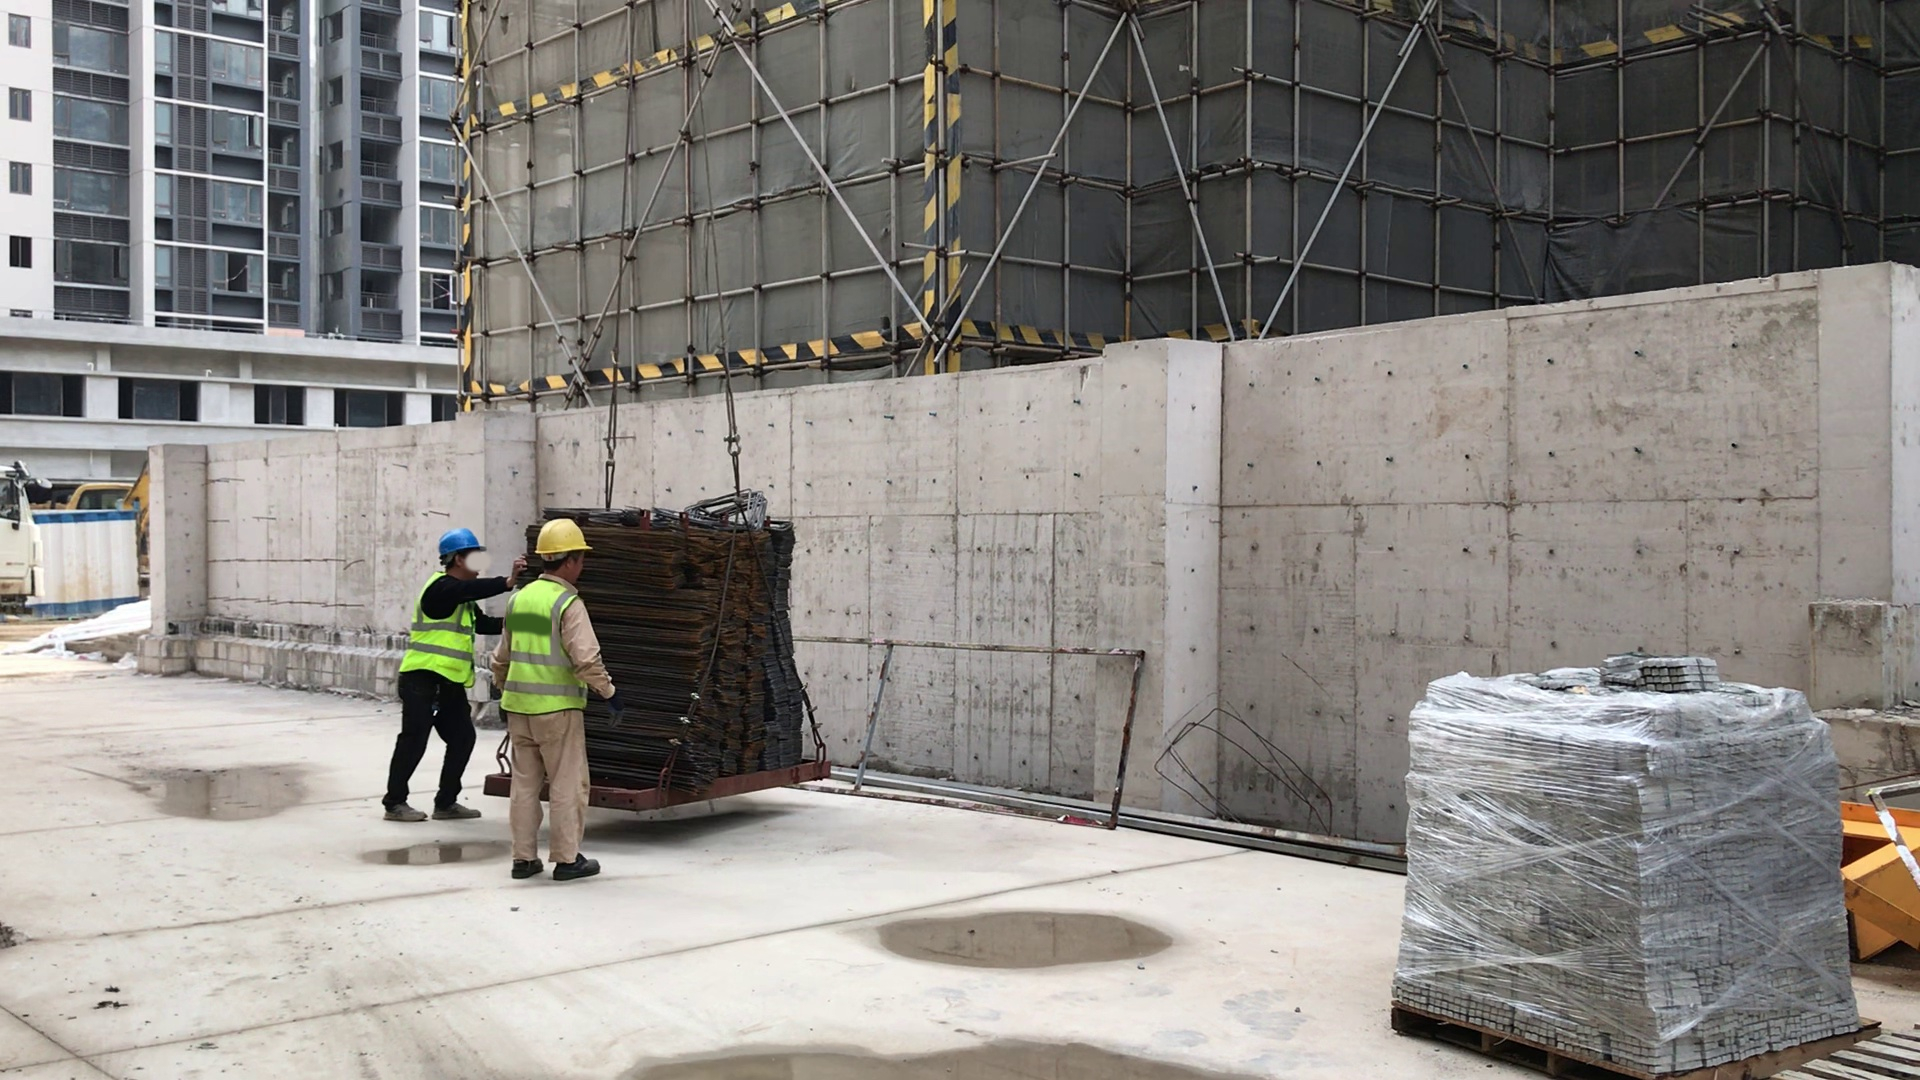helmet: (425, 509, 496, 560), (528, 515, 594, 557)
person: (505, 507, 613, 882), (383, 496, 487, 841)
vest: (498, 578, 584, 712), (389, 572, 474, 679)
